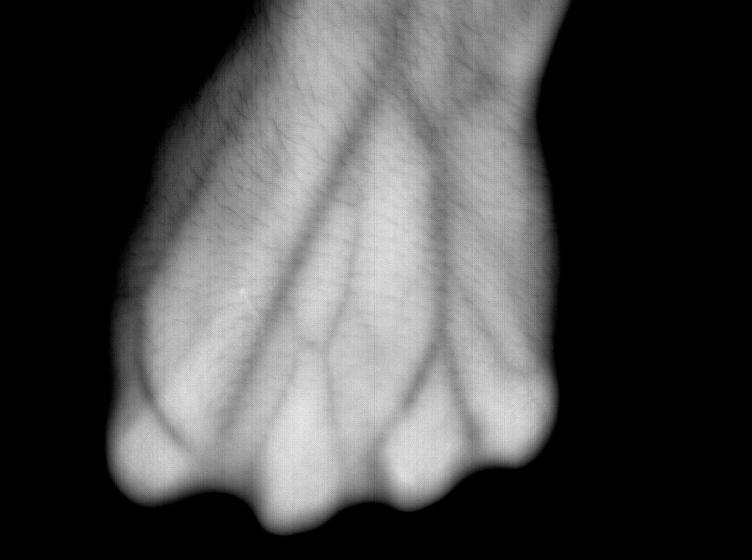Vein: (241, 7, 464, 416)
